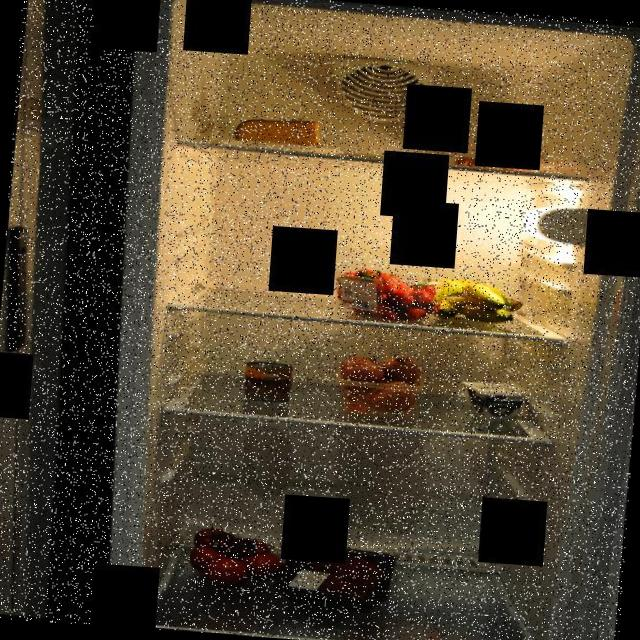Carne vacuno: (293, 548, 375, 598)
Cebolla: (332, 349, 426, 418)
Gambas/Langostinos: (450, 151, 543, 174)
Plátano: (423, 273, 528, 330)
Queso: (232, 112, 328, 151)
Tomate: (182, 520, 288, 592)
